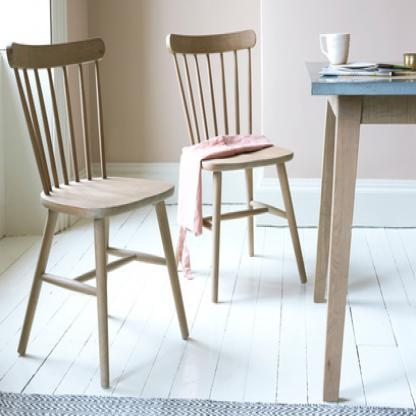chair: (2, 32, 190, 385), (172, 30, 314, 304)
table: (307, 67, 416, 402)
